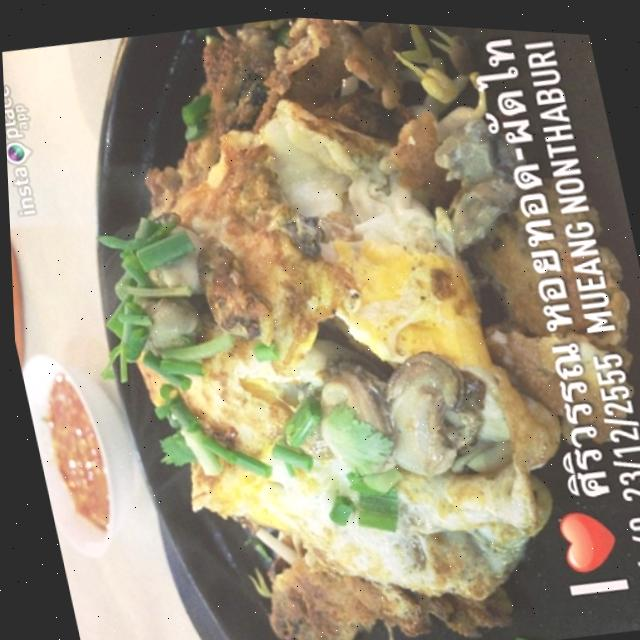炸货点心: (23, 1, 640, 640)
蛋糕甜品: (23, 1, 640, 640)
